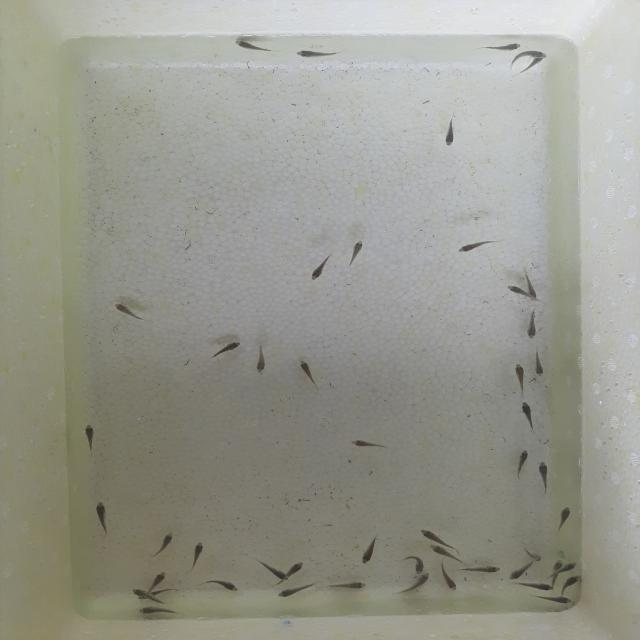fingerling: (91, 499, 115, 540), (393, 573, 436, 595), (112, 301, 152, 324), (252, 558, 288, 582), (304, 254, 334, 282), (508, 360, 530, 398), (296, 359, 322, 391), (148, 530, 176, 559), (200, 576, 243, 594), (184, 538, 208, 570), (235, 37, 278, 54), (512, 445, 534, 478), (358, 534, 380, 566), (455, 238, 499, 254), (253, 340, 271, 378), (208, 339, 242, 359), (344, 240, 366, 270), (275, 584, 315, 600), (518, 402, 538, 432), (346, 438, 388, 452), (532, 593, 574, 607), (292, 47, 344, 58), (506, 561, 534, 581), (553, 506, 572, 535), (415, 528, 449, 544), (536, 459, 552, 493), (442, 115, 458, 148), (324, 580, 370, 591), (137, 606, 179, 618), (476, 42, 524, 52), (402, 554, 426, 574), (82, 422, 96, 456), (442, 567, 460, 592), (128, 587, 156, 603), (510, 582, 553, 592), (460, 564, 502, 574), (525, 310, 539, 340), (532, 349, 546, 379), (557, 574, 582, 590), (503, 282, 525, 299), (427, 545, 450, 561), (287, 560, 308, 576), (516, 50, 548, 60), (150, 569, 170, 585), (522, 547, 544, 560), (564, 562, 580, 574), (550, 557, 564, 569)
